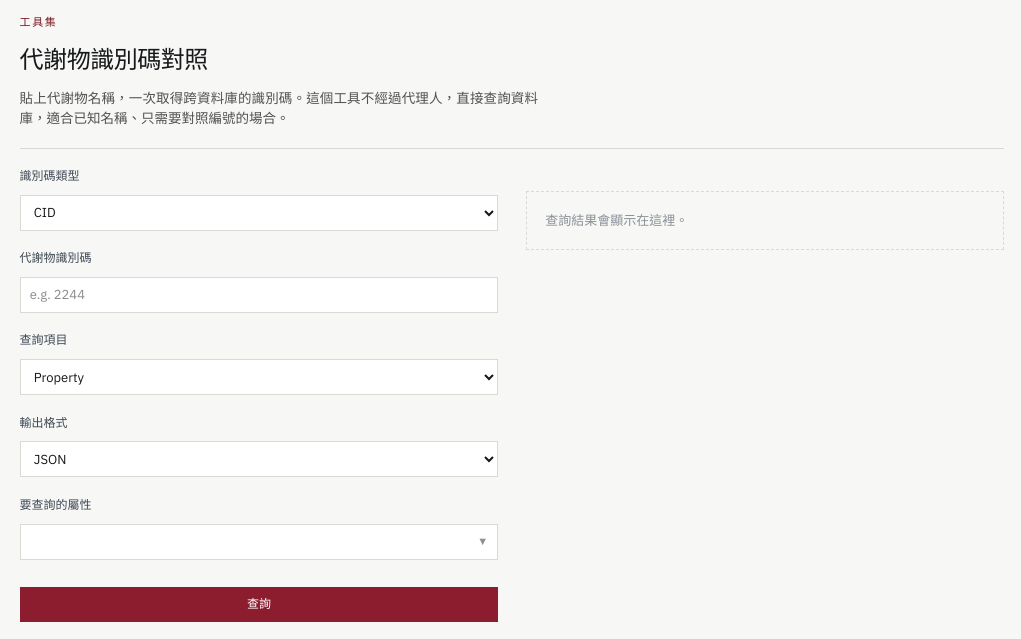
Scenario: MappingTool › shows the localised network-error message when fetch throws, not the raw English text
Type "2244" into the field with placeholder "e.g. 2244" at (259, 295), box 20,277 -> 498,313
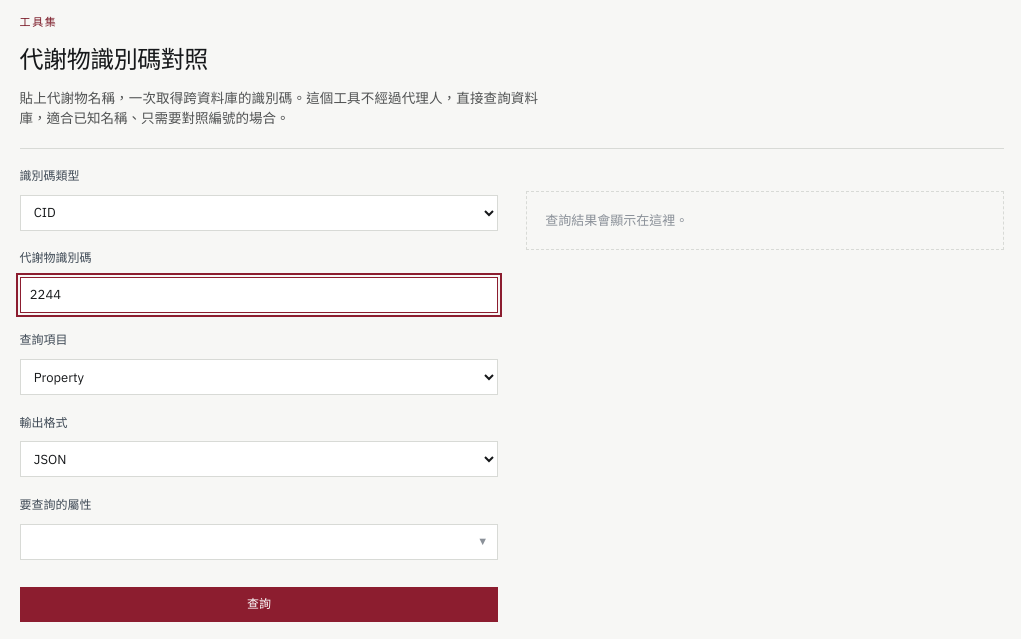
Click the button "查詢" at (259, 605), box 20,587 -> 498,622
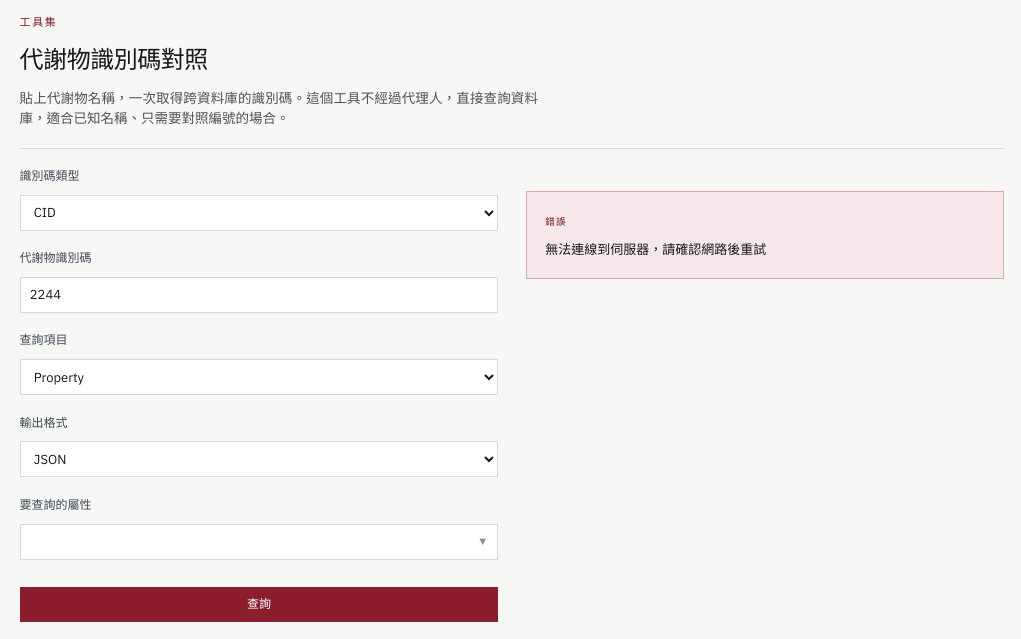
Expected: the text "無法連線到伺服器，請確認網路後重試" is shown, 545,241 -> 766,258
